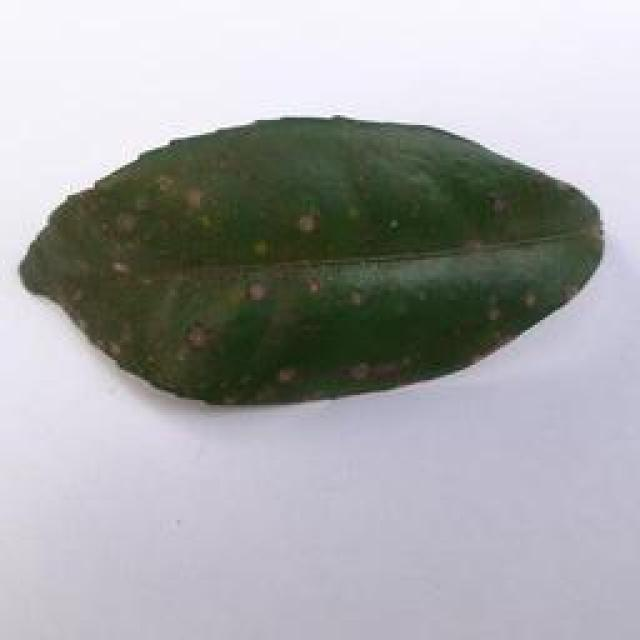Algal Leaf Spot: (20, 104, 612, 403)
